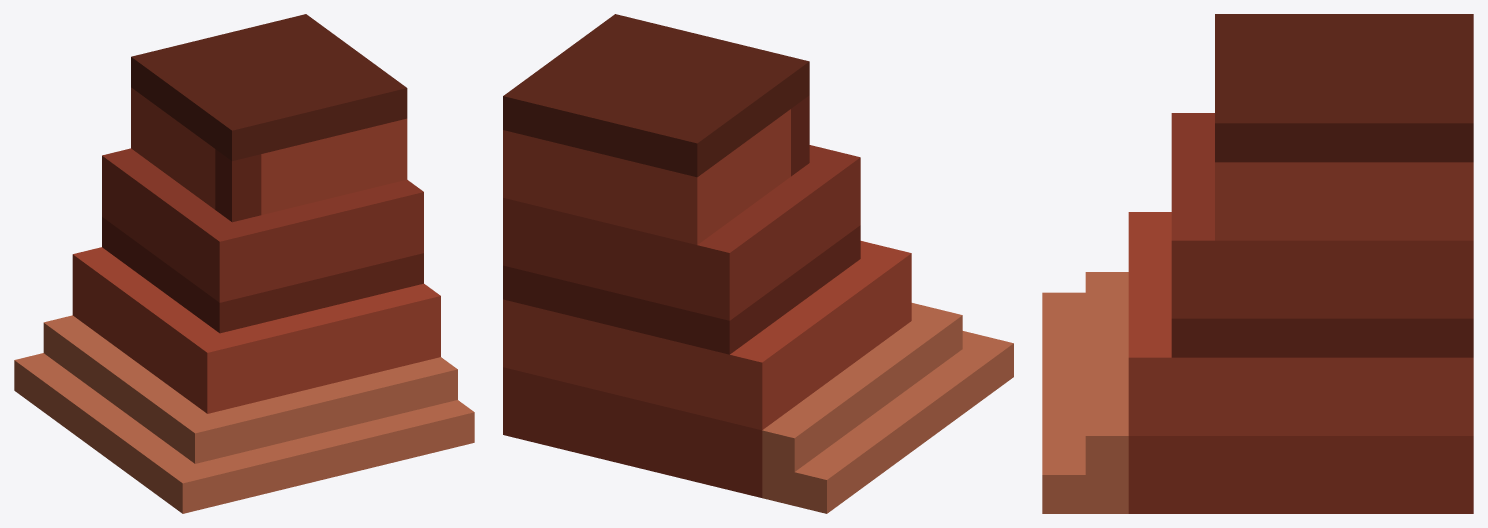
Rendered from rim_inner_corner.glb.
The picture shows the model from 3 angles, left to right: view 1: azimuth 30°, elevation 25°; view 2: azimuth 150°, elevation 25°; view 3: azimuth 270°, elevation 25°; orthographic projection. The views are drawn at different scales.
Parts seen in each view (by area): view 1: rock; view 2: rock; view 3: rock.
Boxes of the visible parts, x1=… form: rock: x1=14, y1=14, x2=474, y2=513; rock: x1=503, y1=14, x2=1013, y2=513; rock: x1=1042, y1=14, x2=1473, y2=513.
Bounding box in the file's own units: 10 × 10 × 10.
